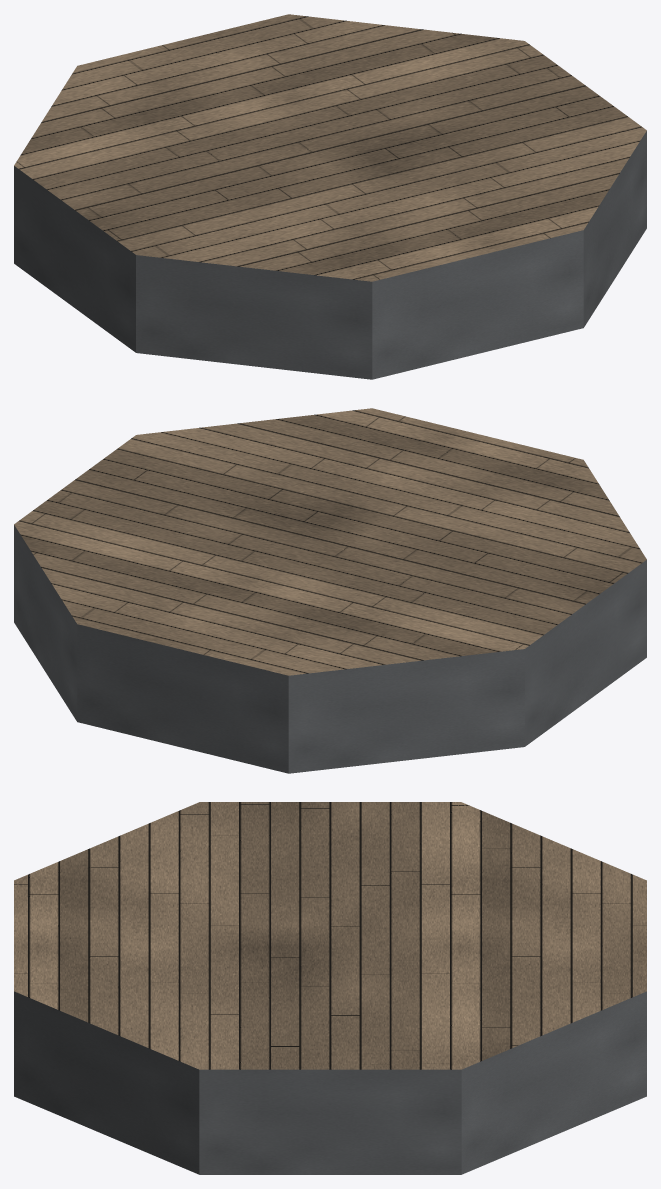
File: SM_Morin_Marina_Raccordo_LOD2.fbx
3 renders of one model, top to bottom at view 1: azimuth 30°, elevation 25°; view 2: azimuth 150°, elevation 25°; view 3: azimuth 270°, elevation 25°, orthographic. The views are drawn at different scales.
Parts seen in each view (by area): view 1: SM_Morin_Marina_Raccordo_LOD2; view 2: SM_Morin_Marina_Raccordo_LOD2; view 3: SM_Morin_Marina_Raccordo_LOD2.
Boxes of the visible parts, <box> form: SM_Morin_Marina_Raccordo_LOD2: <box>14,14,646,379</box>; SM_Morin_Marina_Raccordo_LOD2: <box>14,408,646,773</box>; SM_Morin_Marina_Raccordo_LOD2: <box>14,802,646,1174</box>.
Bounding box in the file's own units: 300 × 300 × 55.
2 materials, 2 textured.
